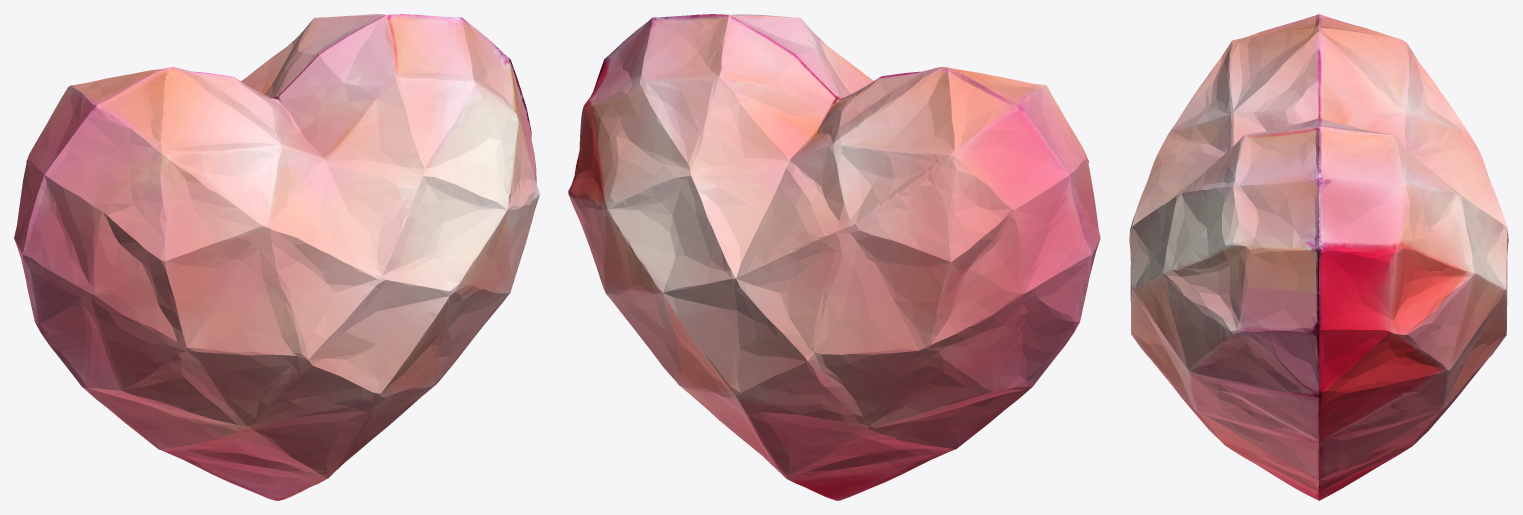
The model's file is heart_pink.fbx.
The picture shows the model from 3 angles, left to right: view 1: azimuth 30°, elevation 25°; view 2: azimuth 150°, elevation 25°; view 3: azimuth 270°, elevation 25°; orthographic projection. The views are drawn at different scales.
Visible parts, largest first — view 1: tmpe9a8k1b_ply; view 2: tmpe9a8k1b_ply; view 3: tmpe9a8k1b_ply.
Part boxes in pixels (x1,y1,x2,y2): tmpe9a8k1b_ply: (14,14,539,500); tmpe9a8k1b_ply: (568,14,1100,500); tmpe9a8k1b_ply: (1129,14,1508,500).
Size of the model in its own units: 1.99 by 1.72 by 1.4.
Materials: 1 (1 with a texture image).
